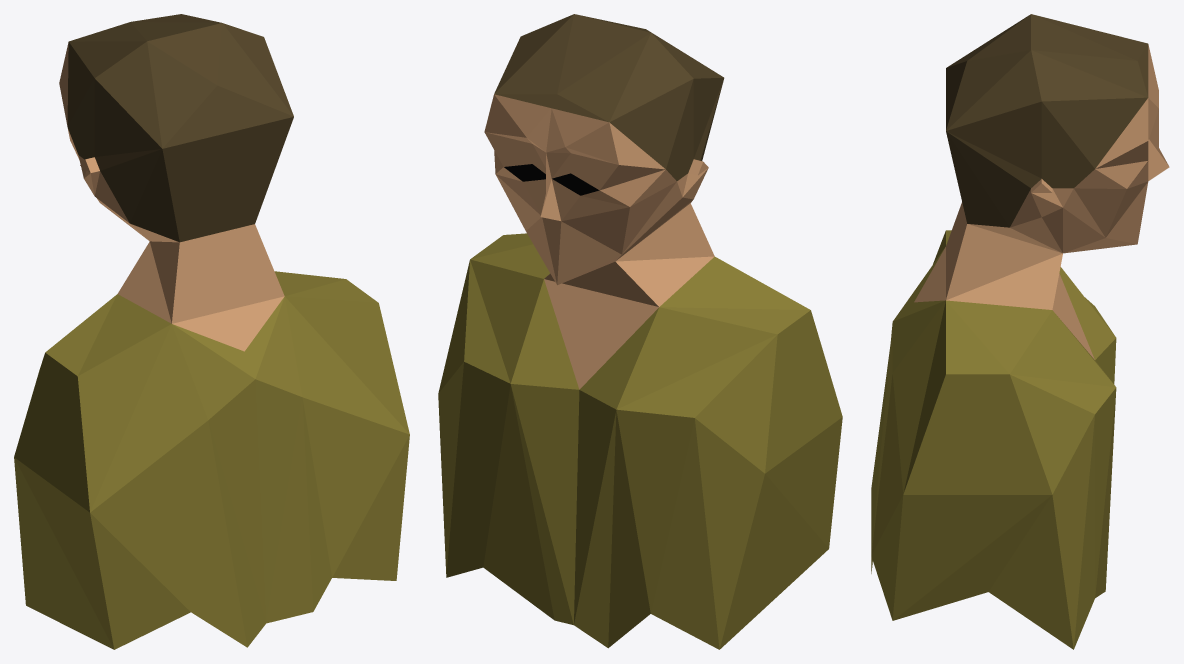
The model's file is npc_world_jeremy_servil_2_2.obj.
3 renders of one model, left to right at view 1: azimuth 30°, elevation 25°; view 2: azimuth 150°, elevation 25°; view 3: azimuth 270°, elevation 25°, orthographic. The views are drawn at different scales.
Size of the model in its own units: 0.2656 by 0.4609 by 0.2188.
